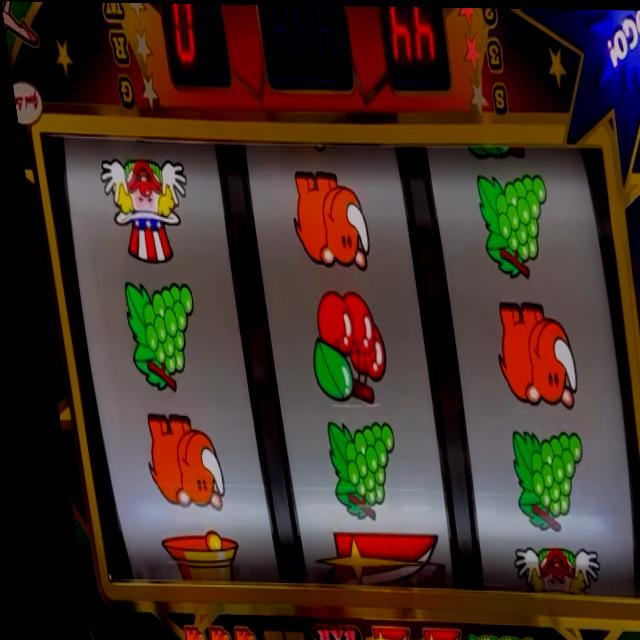bar: (290, 622, 345, 640)
bell: (143, 531, 226, 581)
cherry: (292, 290, 379, 402)
clown: (92, 150, 192, 265), (494, 542, 588, 598)
display: (35, 130, 640, 600)
elephant: (477, 302, 569, 411), (127, 410, 213, 514), (278, 167, 365, 269), (212, 627, 240, 640), (189, 625, 213, 640), (164, 625, 187, 640)
grape: (465, 168, 551, 279), (110, 275, 193, 389), (493, 424, 578, 535), (308, 414, 391, 523)
z: (295, 526, 432, 593), (346, 623, 394, 640), (400, 627, 446, 640)
